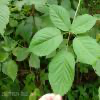Raspberry leaf: (48, 50, 75, 97), (27, 26, 64, 57), (71, 33, 99, 65), (45, 3, 71, 32), (69, 11, 99, 34)
